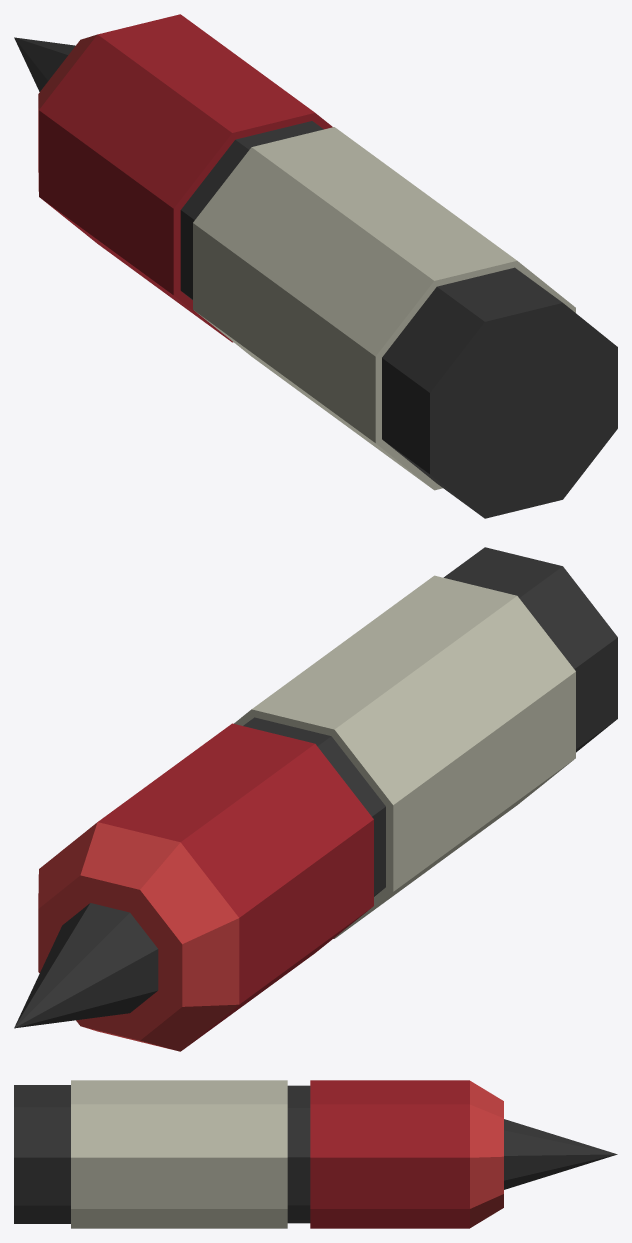
Rendered from ce_ammo_gae_chrifle_conc_a.obj.
3 renders of one model, top to bottom at view 1: azimuth 30°, elevation 25°; view 2: azimuth 150°, elevation 25°; view 3: azimuth 270°, elevation 25°, orthographic. The views are drawn at different scales.
Parts seen in each view (by area): view 1: ce_ammo_gae_chrifle_conc_a_1, ce_ammo_gae_chrifle_conc_a_0, ce_ammo_gae_chrifle_conc_a_3, ce_ammo_gae_chrifle_conc_a_2, ce_ammo_gae_chrifle_conc_a_5, ce_ammo_gae_chrifle_conc_a_4; view 2: ce_ammo_gae_chrifle_conc_a_1, ce_ammo_gae_chrifle_conc_a_3, ce_ammo_gae_chrifle_conc_a_4, ce_ammo_gae_chrifle_conc_a_5, ce_ammo_gae_chrifle_conc_a_0, ce_ammo_gae_chrifle_conc_a_2; view 3: ce_ammo_gae_chrifle_conc_a_1, ce_ammo_gae_chrifle_conc_a_3, ce_ammo_gae_chrifle_conc_a_0, ce_ammo_gae_chrifle_conc_a_4, ce_ammo_gae_chrifle_conc_a_5, ce_ammo_gae_chrifle_conc_a_2.
Boxes of the visible parts, x1,y1,x2,y2 form: ce_ammo_gae_chrifle_conc_a_1: (193,127,575,490); ce_ammo_gae_chrifle_conc_a_0: (382,267,617,518); ce_ammo_gae_chrifle_conc_a_3: (39,14,332,342); ce_ammo_gae_chrifle_conc_a_2: (180,121,323,299); ce_ammo_gae_chrifle_conc_a_5: (14,37,75,91); ce_ammo_gae_chrifle_conc_a_4: (38,34,97,191); ce_ammo_gae_chrifle_conc_a_1: (234,575,575,938); ce_ammo_gae_chrifle_conc_a_3: (98,723,373,1049); ce_ammo_gae_chrifle_conc_a_4: (38,822,239,1051); ce_ammo_gae_chrifle_conc_a_5: (14,903,158,1028); ce_ammo_gae_chrifle_conc_a_0: (443,547,617,752); ce_ammo_gae_chrifle_conc_a_2: (243,717,385,896); ce_ammo_gae_chrifle_conc_a_1: (71,1080,287,1228); ce_ammo_gae_chrifle_conc_a_3: (310,1080,469,1228); ce_ammo_gae_chrifle_conc_a_0: (14,1085,70,1223); ce_ammo_gae_chrifle_conc_a_4: (470,1081,503,1227); ce_ammo_gae_chrifle_conc_a_5: (504,1119,617,1189); ce_ammo_gae_chrifle_conc_a_2: (287,1085,310,1223).
Size of the model in its own units: 0.1202 by 0.1201 by 0.53.
